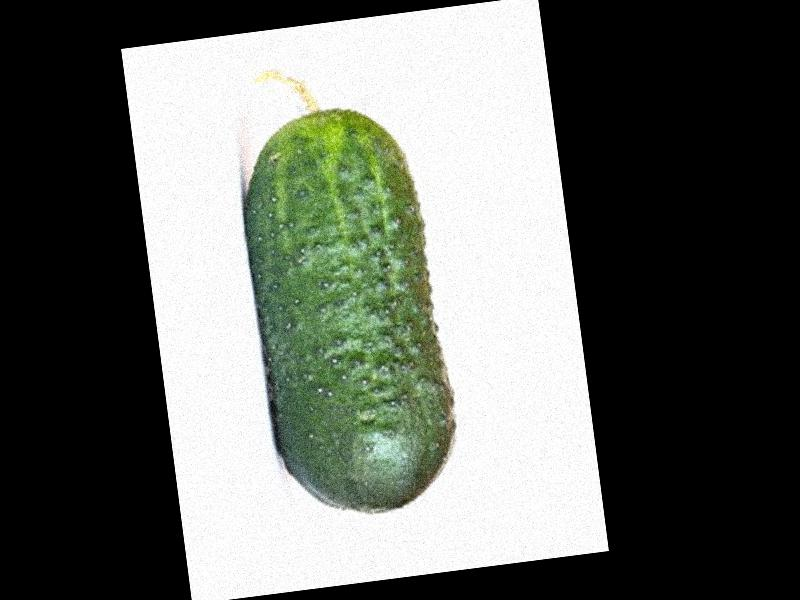Cucumber: (224, 51, 469, 522)
